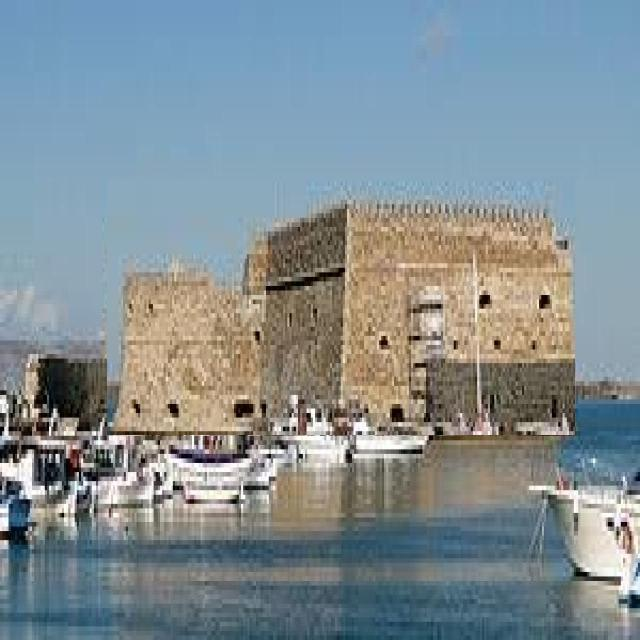Kules: (108, 178, 576, 436)
